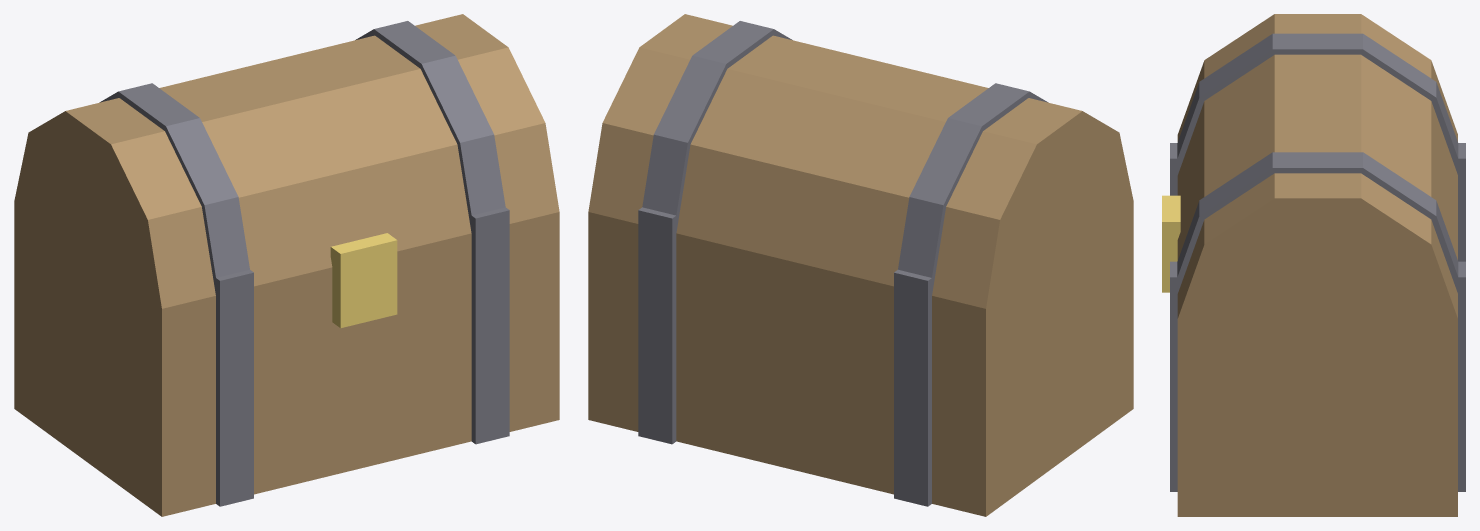
File: Chest.glb
The picture shows the model from 3 angles, left to right: view 1: azimuth 30°, elevation 25°; view 2: azimuth 150°, elevation 25°; view 3: azimuth 270°, elevation 25°; orthographic projection. The views are drawn at different scales.
Visible parts, largest first — view 1: Chest_Body, Chest_Lid, Chest_Band.001, Chest_Band, Chest_LidBand, Chest_LidBand.001, Chest_Lock; view 2: Chest_Body, Chest_Lid, Chest_Band.001, Chest_Band, Chest_LidBand, Chest_LidBand.001; view 3: Chest_Lid, Chest_Body, Chest_LidBand, Chest_LidBand.001, Chest_Band.001, Chest_Band, Chest_Lock.
Boxes of the visible parts, bbox=[...] form: Chest_Body: bbox=[14, 201, 559, 516]; Chest_Lid: bbox=[14, 14, 559, 391]; Chest_Band.001: bbox=[468, 207, 509, 444]; Chest_Band: bbox=[216, 269, 253, 506]; Chest_LidBand: bbox=[99, 83, 249, 312]; Chest_LidBand.001: bbox=[355, 21, 505, 215]; Chest_Lock: bbox=[330, 233, 397, 328]; Chest_Body: bbox=[588, 201, 1133, 516]; Chest_Lid: bbox=[588, 14, 1133, 398]; Chest_Band.001: bbox=[638, 207, 679, 444]; Chest_Band: bbox=[894, 269, 933, 506]; Chest_LidBand: bbox=[898, 83, 1048, 312]; Chest_LidBand.001: bbox=[642, 21, 792, 246]; Chest_Lid: bbox=[1177, 14, 1457, 439]; Chest_Body: bbox=[1177, 319, 1457, 516]; Chest_LidBand: bbox=[1172, 33, 1464, 191]; Chest_LidBand.001: bbox=[1172, 152, 1463, 310]; Chest_Band.001: bbox=[1170, 261, 1465, 491]; Chest_Band: bbox=[1170, 143, 1465, 261]; Chest_Lock: bbox=[1162, 195, 1180, 292].
Bounding box in the file's own units: 1.4 × 1.15 × 0.975.
